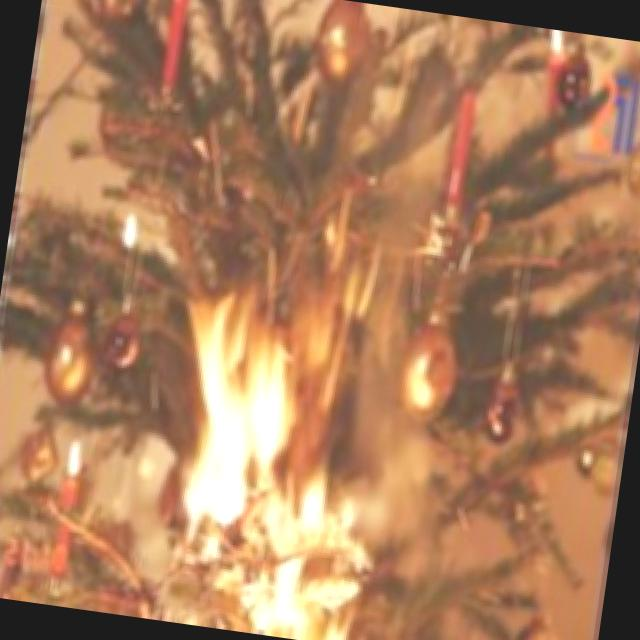fire: (165, 232, 375, 556)
